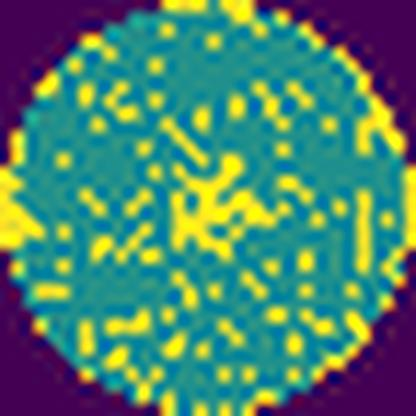Center: (174, 156, 280, 256)
